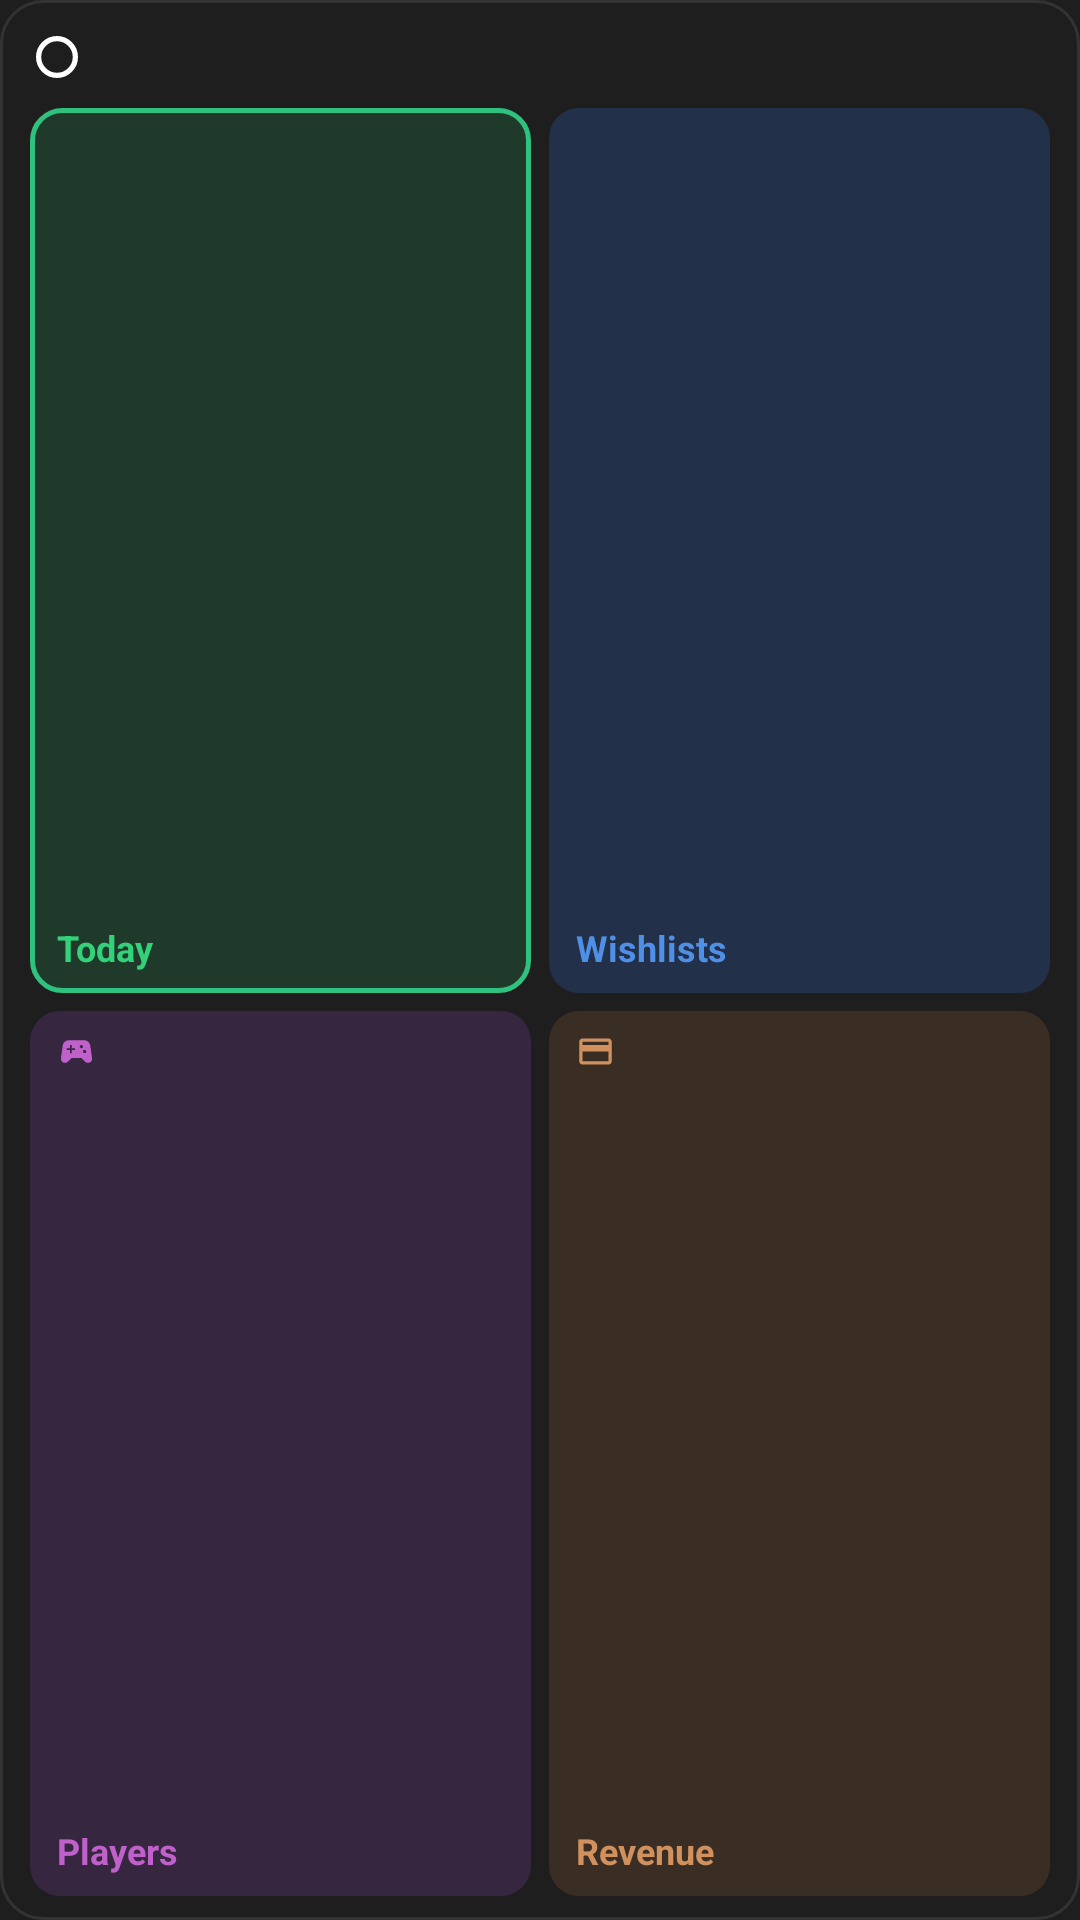

Locate icon controls on the screen. Image size 1080*1920, boxes as (x1, y1, x2, y2).
card: (579, 1038, 612, 1065)
gamepad: (61, 1040, 92, 1063)
ring: (36, 36, 78, 78)
